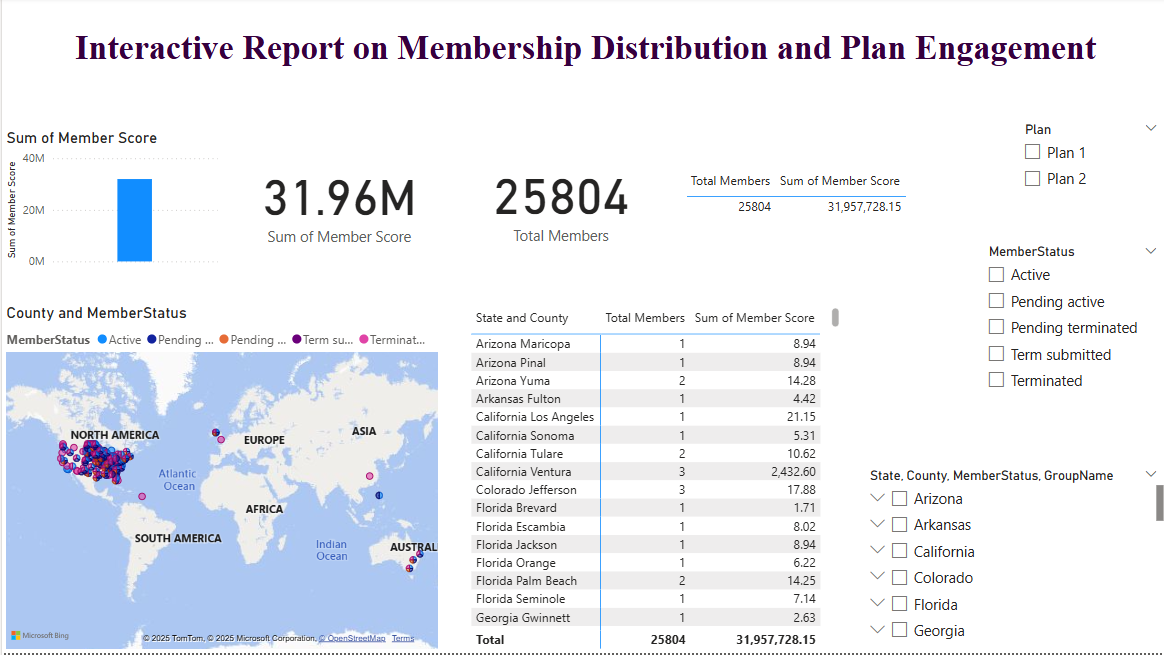

The page's visual inventory and layout, read from the dashboard file:
{"tool":"powerbi","page":{"name":"Page 1","canvas":[1280,720],"ordinal":0},"visuals":[{"type":"slicer","fields":{"Values":["Page 2.State","Page 2.County","Page 2.MemberStatus","Page 2.GroupName"]},"box":[939.8,512.1,340.5,208.2],"z":0},{"type":"card","fields":{"Values":["Page 2.Total Members"]},"box":[510.7,170.2,206.8,106.9],"z":1},{"type":"map","fields":{"Category":["Page 2.County","Page 2.State"],"Series":["Page 2.MemberStatus"]},"box":[0,336.3,482.6,384.1],"z":2},{"type":"pivotTable","fields":{"Values":["Page 2.Total Members","Sum(Page 2.Member Score)"],"Rows":["Page 2.State and County"]},"box":[510.7,336.3,413.6,384.1],"z":3},{"type":"slicer","fields":{"Values":["Page 2.MemberStatus"]},"box":[1070.7,265.9,209.6,189.9],"z":4},{"type":"slicer","fields":{"Values":["Page 2.Plan"]},"box":[1110,132.2,170.2,91.4],"z":5},{"type":"card","fields":{"Values":["Sum(Page 2.Member Score)"]},"box":[257.5,149.1,225.1,149.1],"z":6},{"type":"clusteredColumnChart","fields":{"Y":["Sum(Page 2.Member Score)"]},"box":[0,143.5,242,160.4],"z":7},{"type":"tableEx","fields":{"Values":["Page 2.Total Members","Sum(Page 2.Member Score)"]},"box":[745.7,185.7,257.5,91.4],"z":8},{"type":"textbox","box":[25.5,28.4,1229.2,69.6],"z":9}]}

Visuals, with their boxes in screenshot pixels (x1, y1, x2, y2), scaled from the page's 1280x720 canvas onto the 1164x655 screenshot:
slicer - Page 2.State x Page 2.County: [855, 466, 1163, 654]
card - Page 2.Total Members: [464, 155, 652, 252]
map - Page 2.County x Page 2.State: [0, 306, 439, 654]
pivotTable - Page 2.Total Members x Sum(Page 2.Member Score): [464, 306, 841, 654]
slicer - Page 2.MemberStatus: [974, 242, 1163, 415]
slicer - Page 2.Plan: [1009, 120, 1163, 203]
card - Sum(Page 2.Member Score): [234, 136, 439, 271]
clusteredColumnChart - Sum(Page 2.Member Score): [0, 131, 220, 276]
tableEx - Page 2.Total Members x Sum(Page 2.Member Score): [678, 169, 912, 252]
textbox: [23, 26, 1141, 89]
